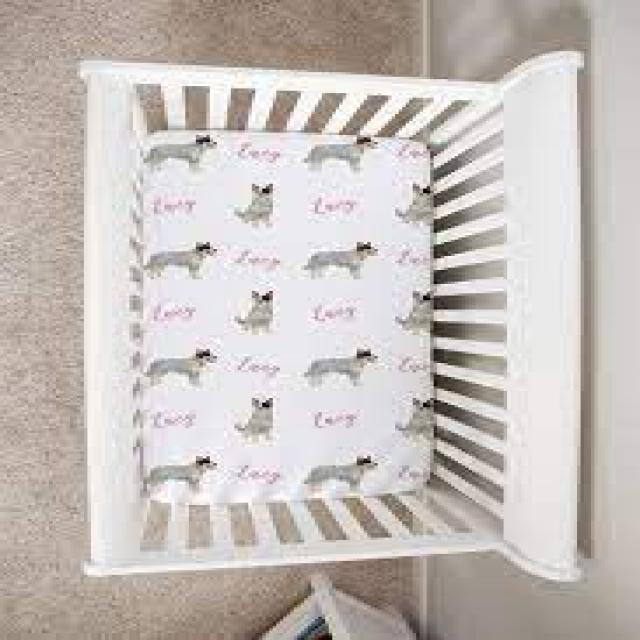crib: (77, 49, 587, 582)
